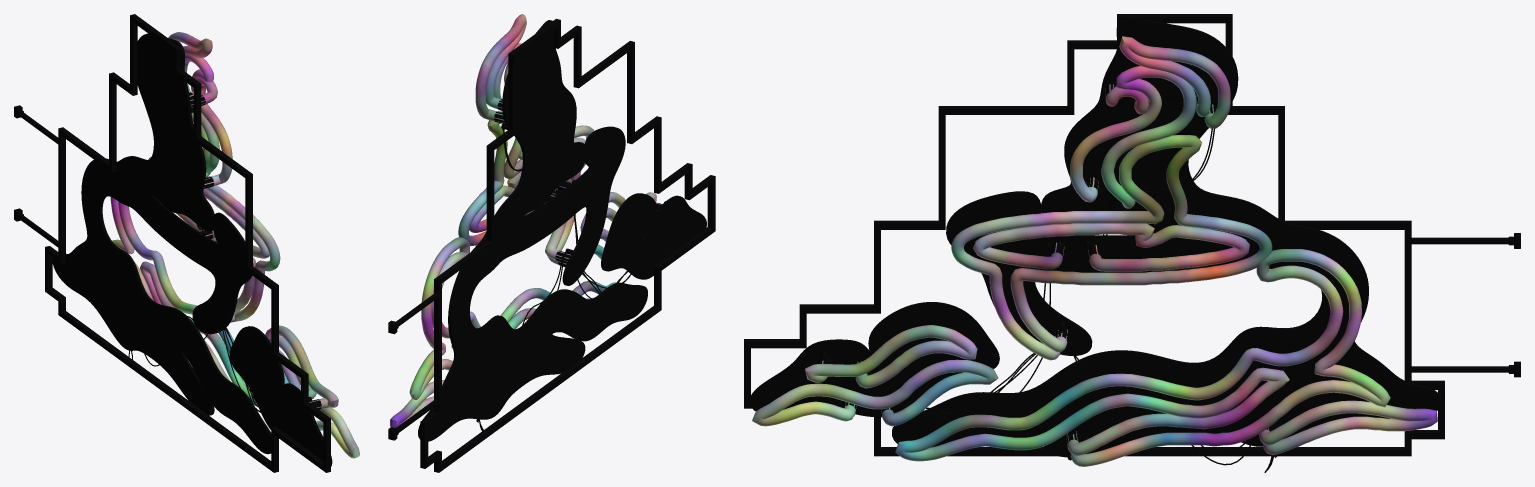
The model's file is neonsign_02.fbx.
3 views of the same model, side by side, from view 1: azimuth 30°, elevation 25°; view 2: azimuth 150°, elevation 25°; view 3: azimuth 270°, elevation 25° (orthographic). The views are drawn at different scales.
Visible parts, largest first — view 1: neonsign_02; view 2: neonsign_02; view 3: neonsign_02.
Part boxes in pixels (x1,y1,x2,y2): neonsign_02: (14, 14, 359, 472); neonsign_02: (388, 14, 715, 472); neonsign_02: (744, 14, 1520, 472).
Bounding box in the file's own units: 0.1649 × 1.43 × 2.24.
